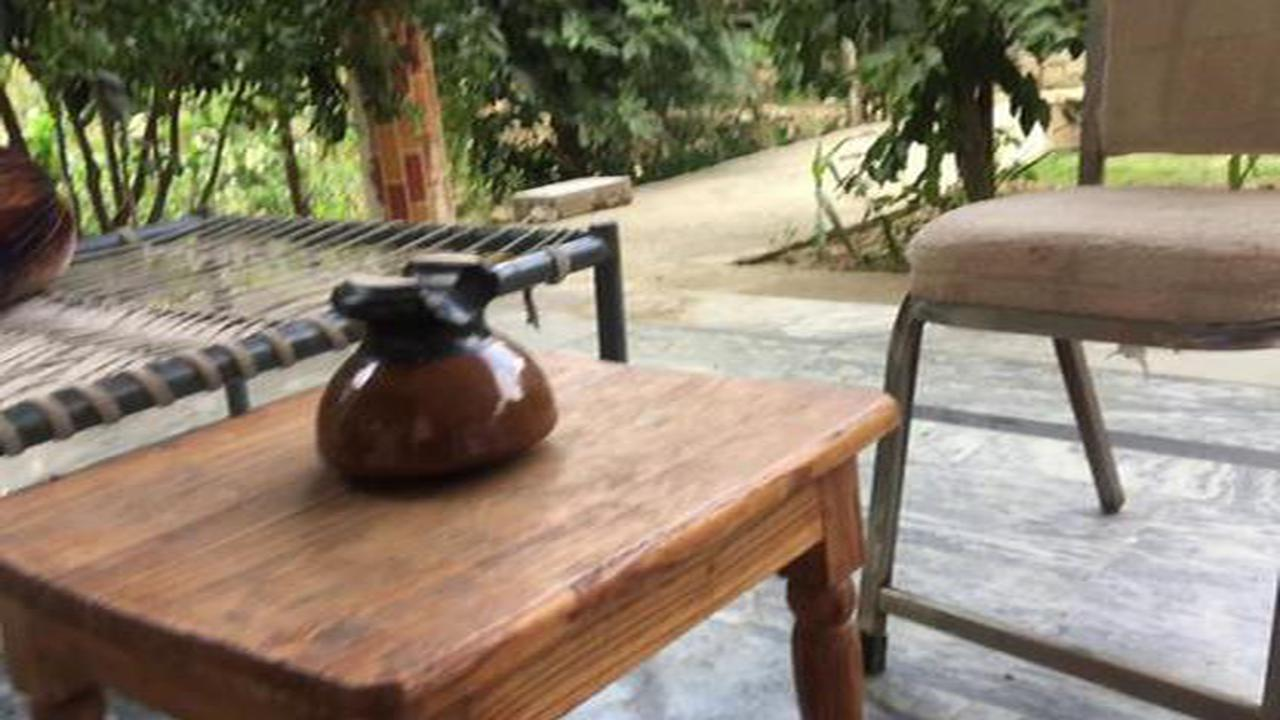insulator_pin: (302, 246, 567, 504)
